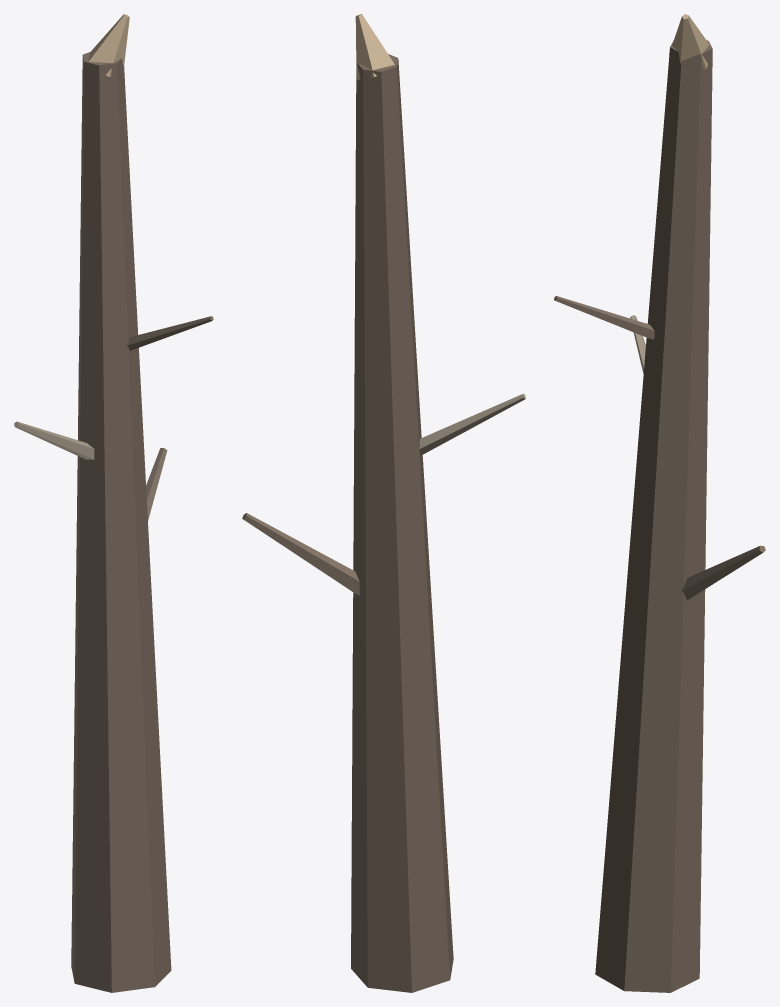
The model's file is dead_tree_03.glb.
3 renders of one model, left to right at view 1: azimuth 30°, elevation 25°; view 2: azimuth 150°, elevation 25°; view 3: azimuth 270°, elevation 25°, orthographic. The views are drawn at different scales.
Visible parts, largest first — view 1: dead_tree_03_trunk, dead_tree_03_broken_tip, dead_tree_03_branch_2, dead_tree_03_branch_3, dead_tree_03_branch_1; view 2: dead_tree_03_trunk, dead_tree_03_branch_1, dead_tree_03_branch_2, dead_tree_03_broken_tip; view 3: dead_tree_03_trunk, dead_tree_03_branch_1, dead_tree_03_broken_tip, dead_tree_03_branch_3.
Boxes of the visible parts, left/top/right/bottom form: dead_tree_03_trunk: left=71, top=52, right=171, bottom=992; dead_tree_03_broken_tip: left=88, top=14, right=129, bottom=76; dead_tree_03_branch_2: left=14, top=421, right=94, bottom=459; dead_tree_03_branch_3: left=126, top=316, right=213, bottom=350; dead_tree_03_branch_1: left=146, top=448, right=167, bottom=520; dead_tree_03_trunk: left=351, top=54, right=453, bottom=992; dead_tree_03_branch_1: left=242, top=513, right=359, bottom=595; dead_tree_03_branch_2: left=419, top=393, right=525, bottom=455; dead_tree_03_broken_tip: left=355, top=14, right=394, bottom=80; dead_tree_03_trunk: left=595, top=40, right=712, bottom=992; dead_tree_03_branch_1: left=681, top=545, right=765, bottom=600; dead_tree_03_broken_tip: left=669, top=14, right=709, bottom=69; dead_tree_03_branch_3: left=554, top=296, right=654, bottom=339.
Bounding box in the file's own units: 1.05 × 4.4 × 0.8697.
